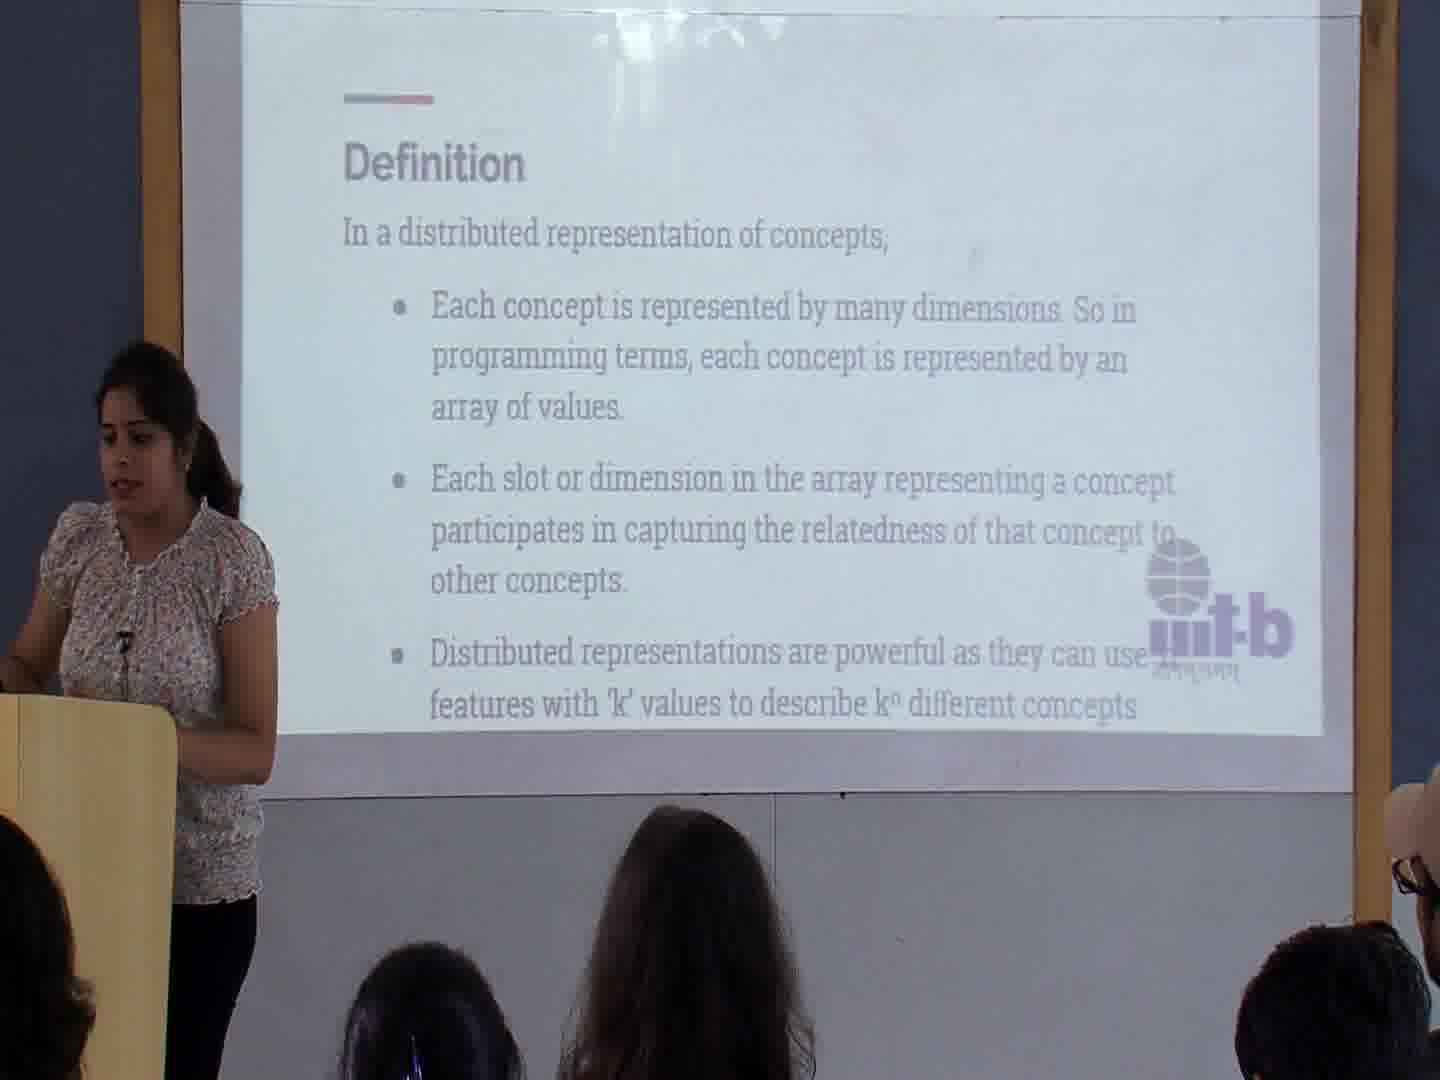slide: (242, 2, 1327, 736)
